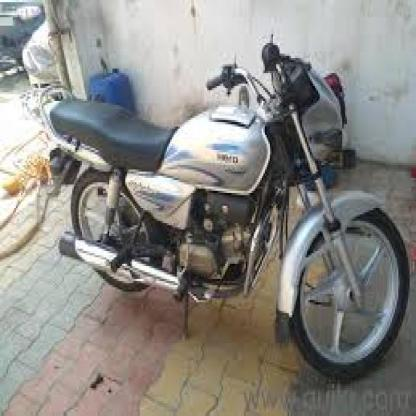bike: (42, 45, 413, 386)
